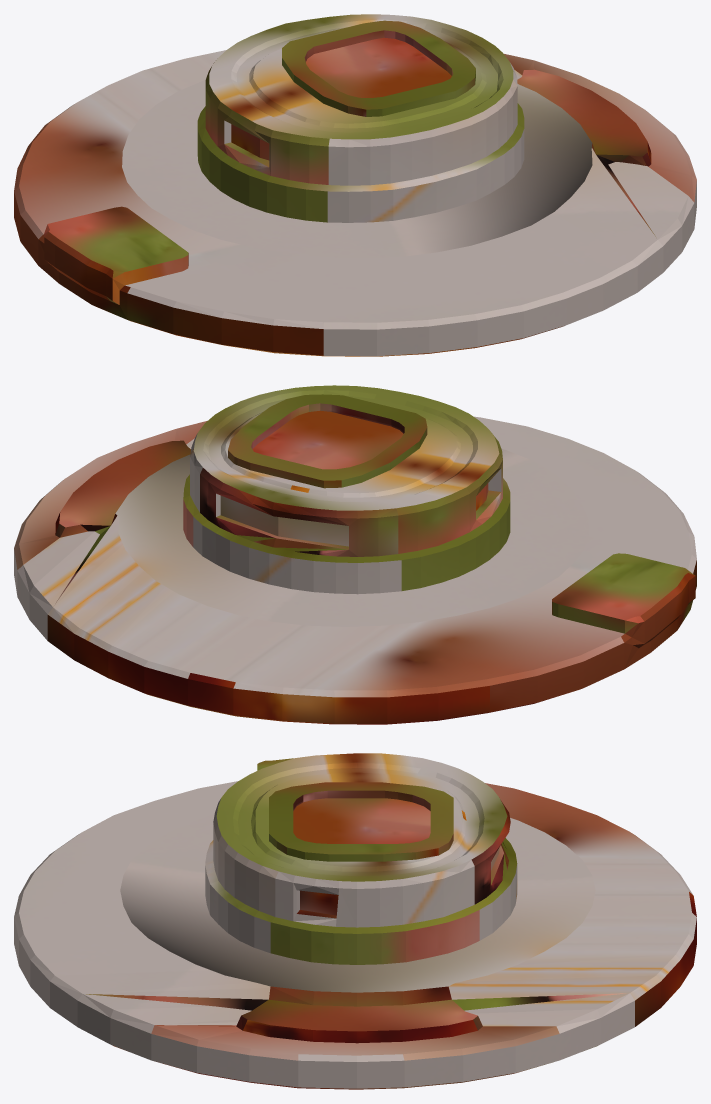
The model's file is XJ_Top.fbx.
3 renders of one model, top to bottom at view 1: azimuth 30°, elevation 25°; view 2: azimuth 150°, elevation 25°; view 3: azimuth 270°, elevation 25°, orthographic.
Visible parts, largest first — view 1: Top; view 2: Top; view 3: Top.
Part boxes in pixels (x1,y1,x2,y2): Top: [14, 14, 696, 356]; Top: [14, 385, 696, 724]; Top: [14, 753, 696, 1089].
Bounding box in the file's own units: 20.78 × 4.75 × 20.68.
